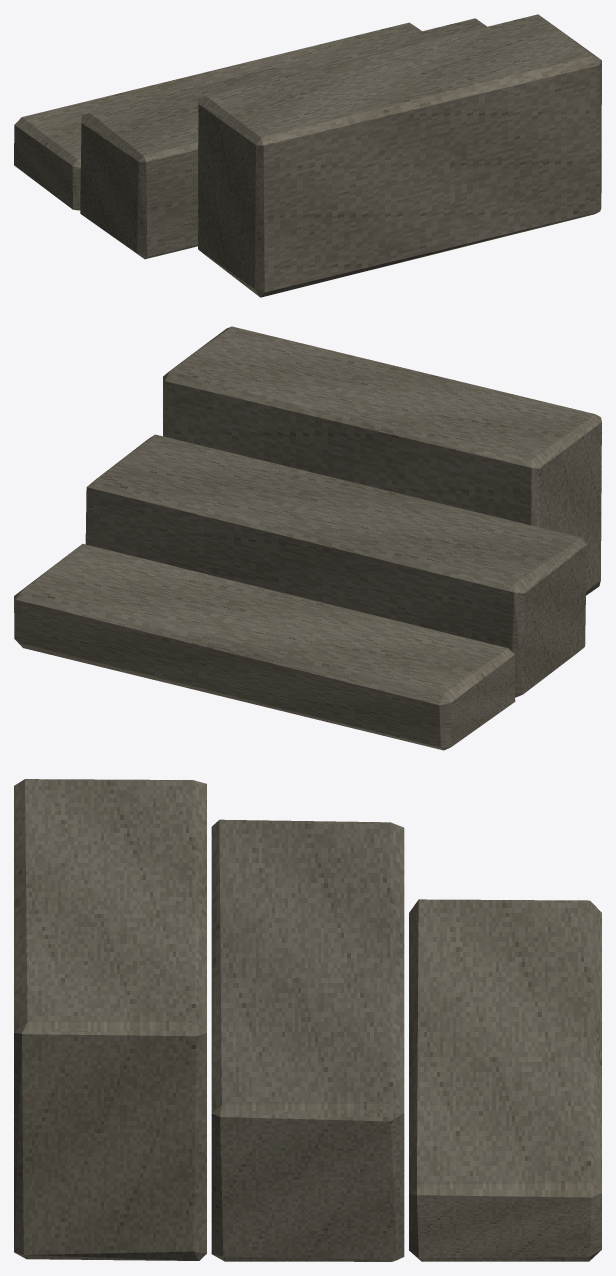
Rendered from env_ruin_surfaces_11_damaged_steps.glb.
3 renders of one model, top to bottom at view 1: azimuth 30°, elevation 25°; view 2: azimuth 150°, elevation 25°; view 3: azimuth 270°, elevation 25°, orthographic. The views are drawn at different scales.
Size of the model in its own units: 1.19 by 0.45 by 1.01.
Materials: 1 (1 with a texture image).
